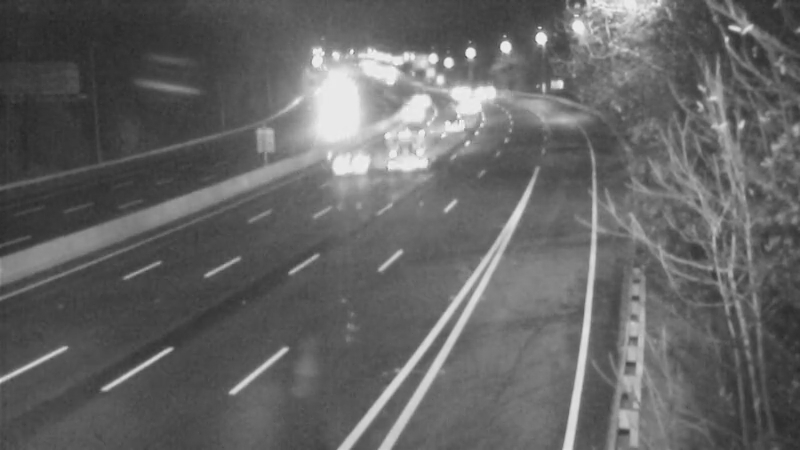vehicle: (314, 127, 394, 207), (441, 66, 491, 116), (462, 65, 512, 115), (390, 76, 440, 126), (445, 84, 495, 134), (385, 85, 435, 135), (433, 96, 483, 146), (392, 107, 442, 157), (384, 122, 434, 172)
